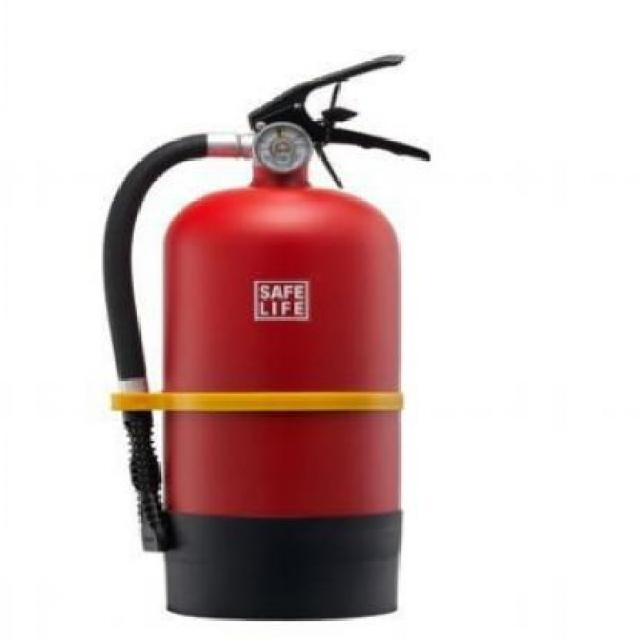fire extinguisher: (100, 53, 432, 621)
